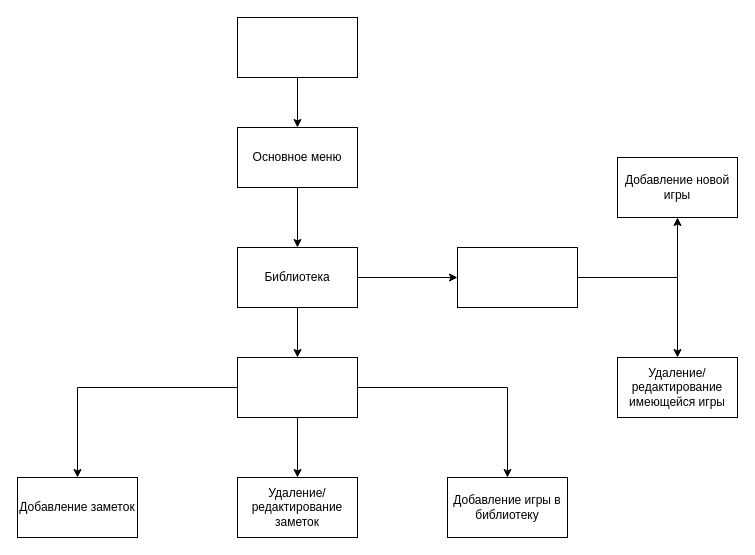
This 755x555 diagram has some shape labels left out. Each missing label, with the centre of its shape:
Авторизация: [297,47]
Окно администратора: [517,277]
Просмотр игры: [297,387]
